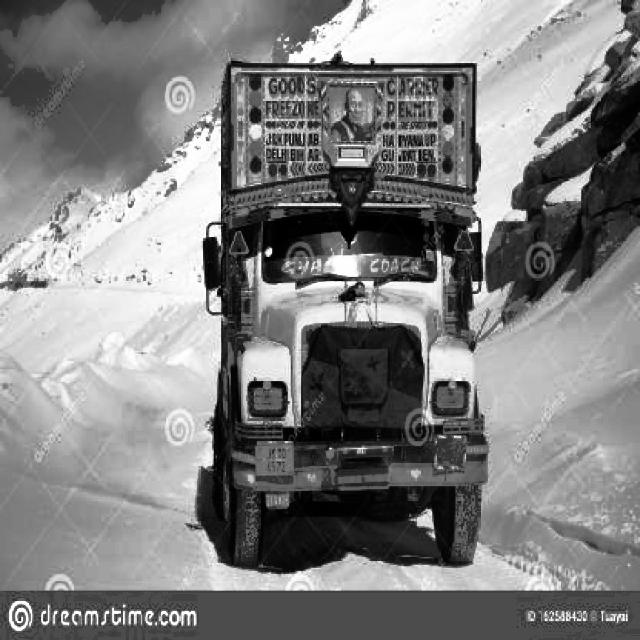HCV: (200, 64, 484, 566)
